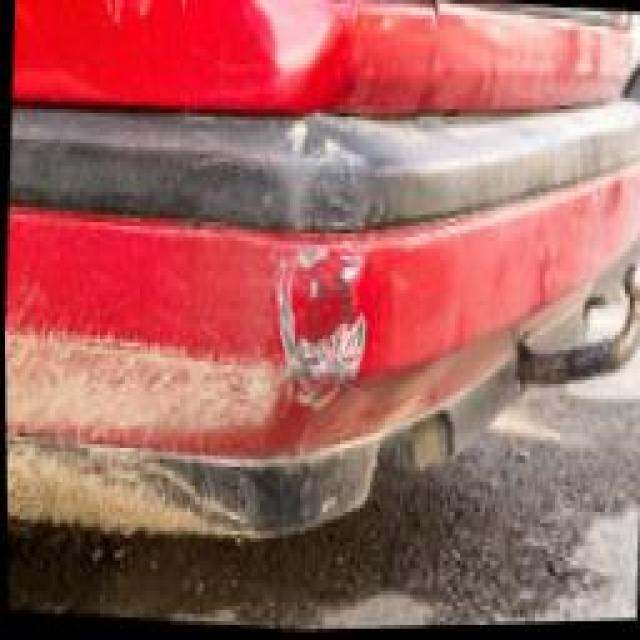Bumper: (0, 72, 425, 557)
